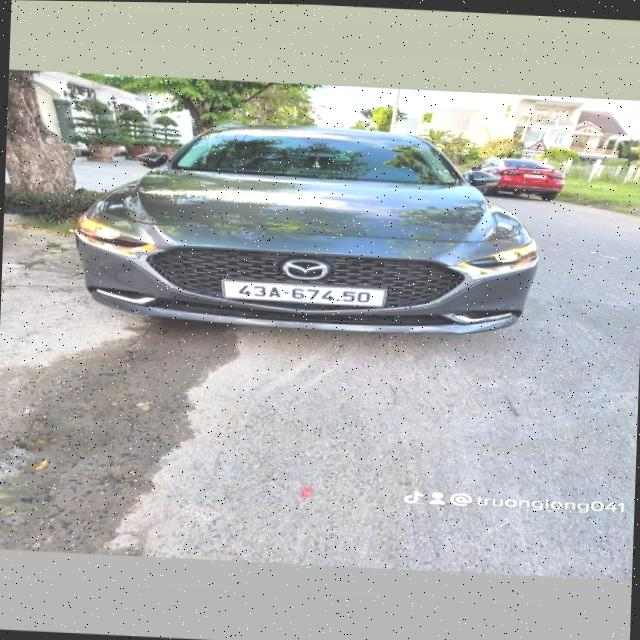car: (64, 110, 565, 350), (462, 149, 564, 205)
plate: (212, 274, 398, 318)
